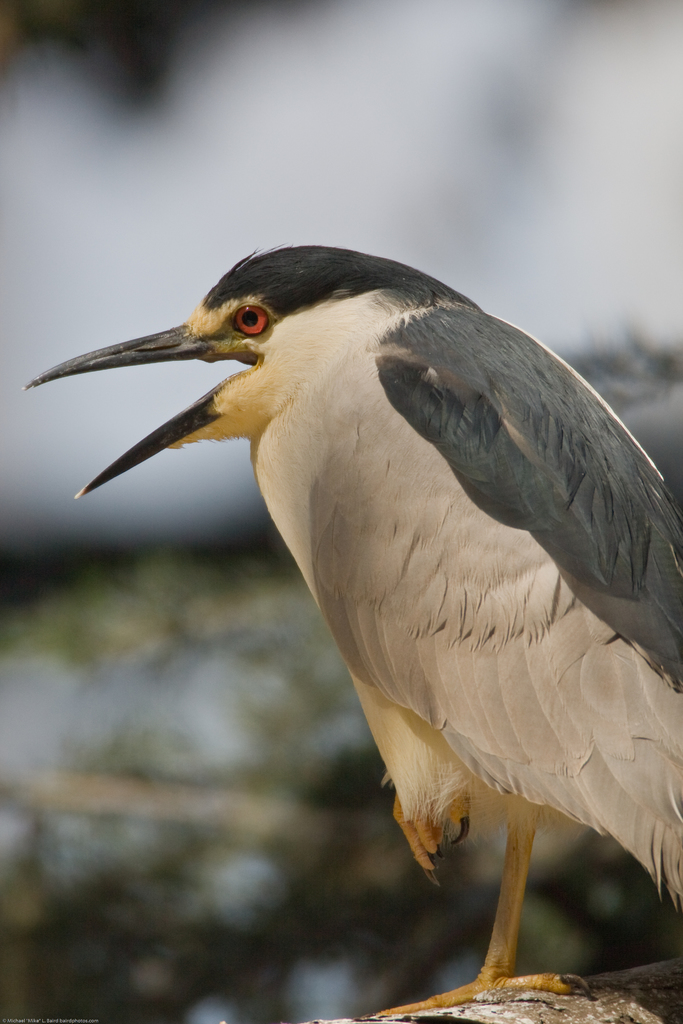Bird: (21, 242, 683, 1024)
